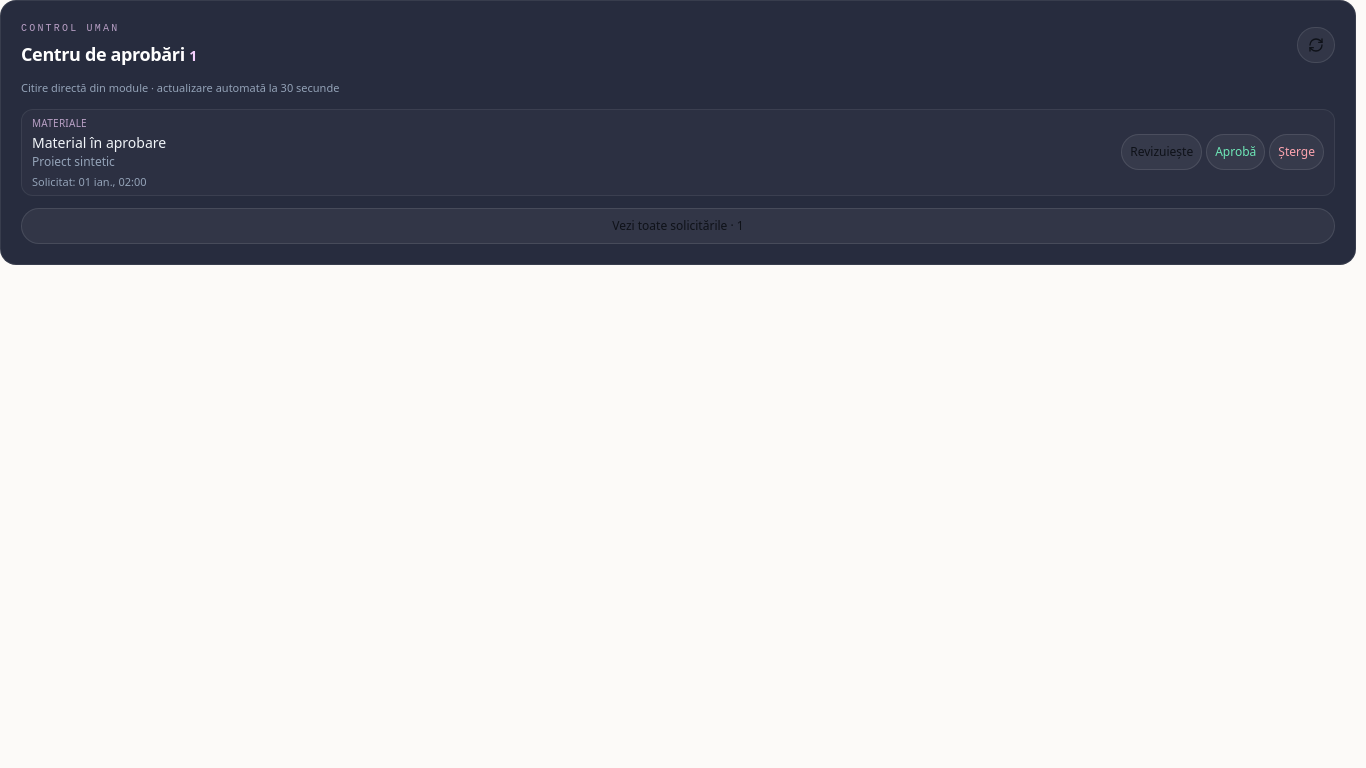
Test case: Unified approval center › loads original requests, requires review and explicit confirmation before approval
Later steps or results of the test are not shown.
expect the text "Material în aprobare" is shown: met, box [32,132,166,152]
Click the button "Revizuiește" at (1162, 152), box [1121,134,1202,170]
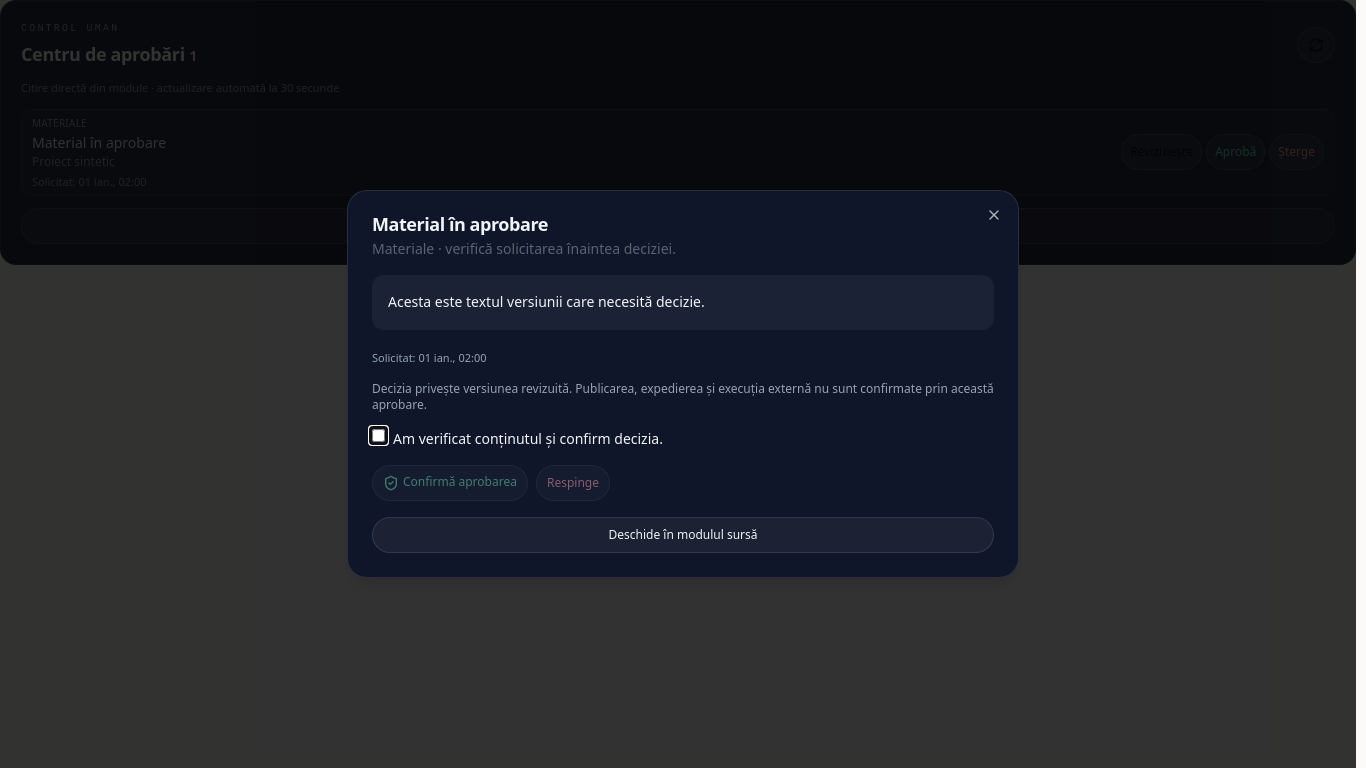
expect the text "Acesta este textul versiunii care necesită decizie." is shown: met, box [372,275,994,330]
expect the button "Confirmă aprobarea" is disabled: met, box [372,465,528,501]
